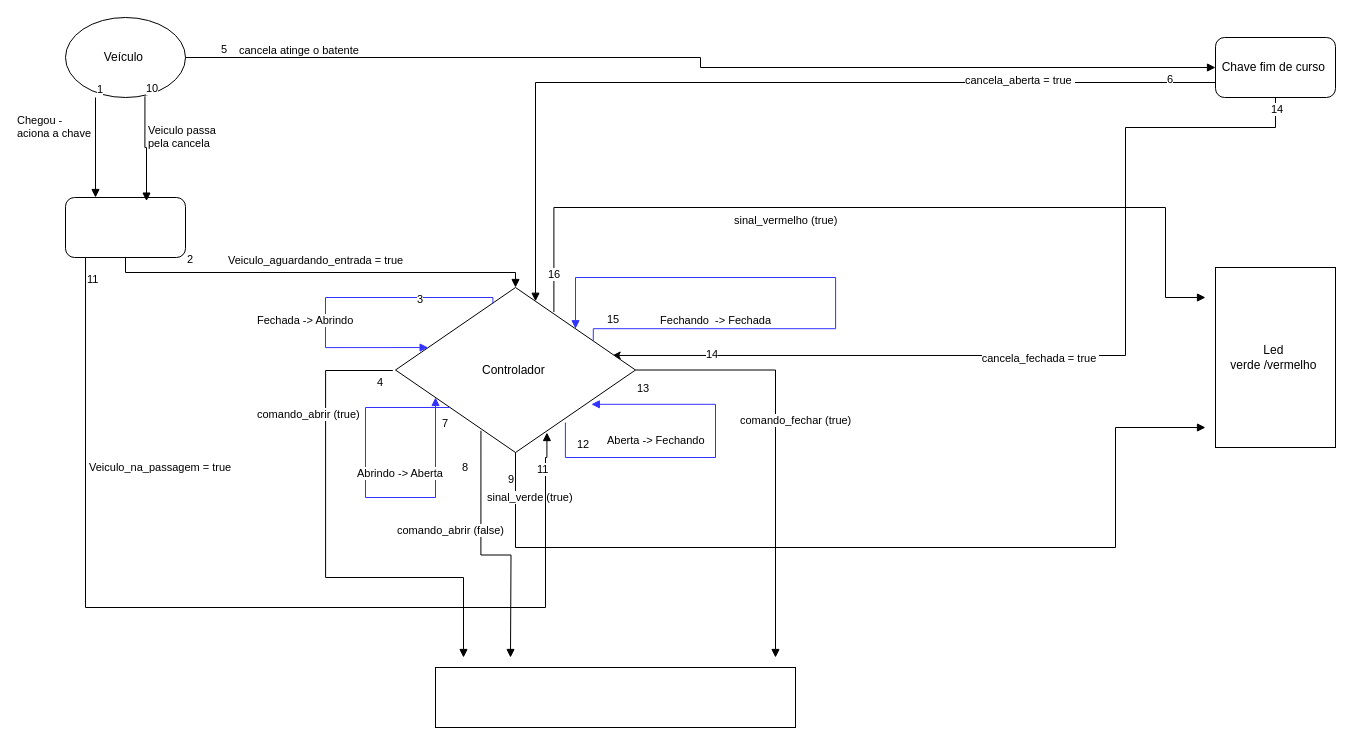
Image size: 1353x745. Some labels were removed from this diagram. The shapes that lost their labels are listed below. From the top down, each one's centre as x and y in pixels, then its label:
the point at 125,227: Chave Entrada/Passagem
the point at 615,697: Led Abrir/Fechar
